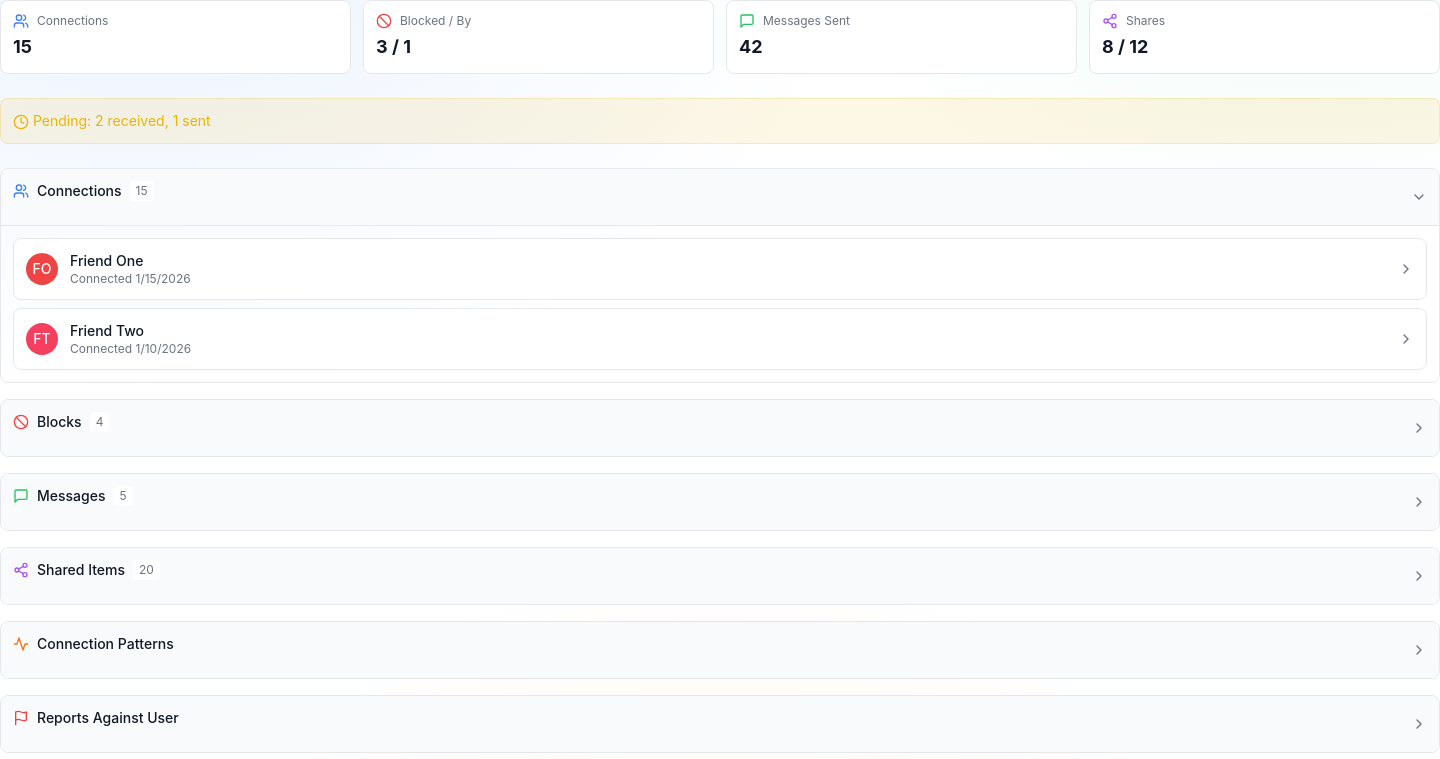
Test: UserSocialTab › clicking shares stat card expands shares section
Expected: the text "8 / 12" is shown, x1=1102 y1=36 x2=1148 y2=57
// Expand shares section via stat card
Click the button "Shares 8 / 12".
click(1146, 20)  # box x1=1089 y1=0 x2=1439 y2=74
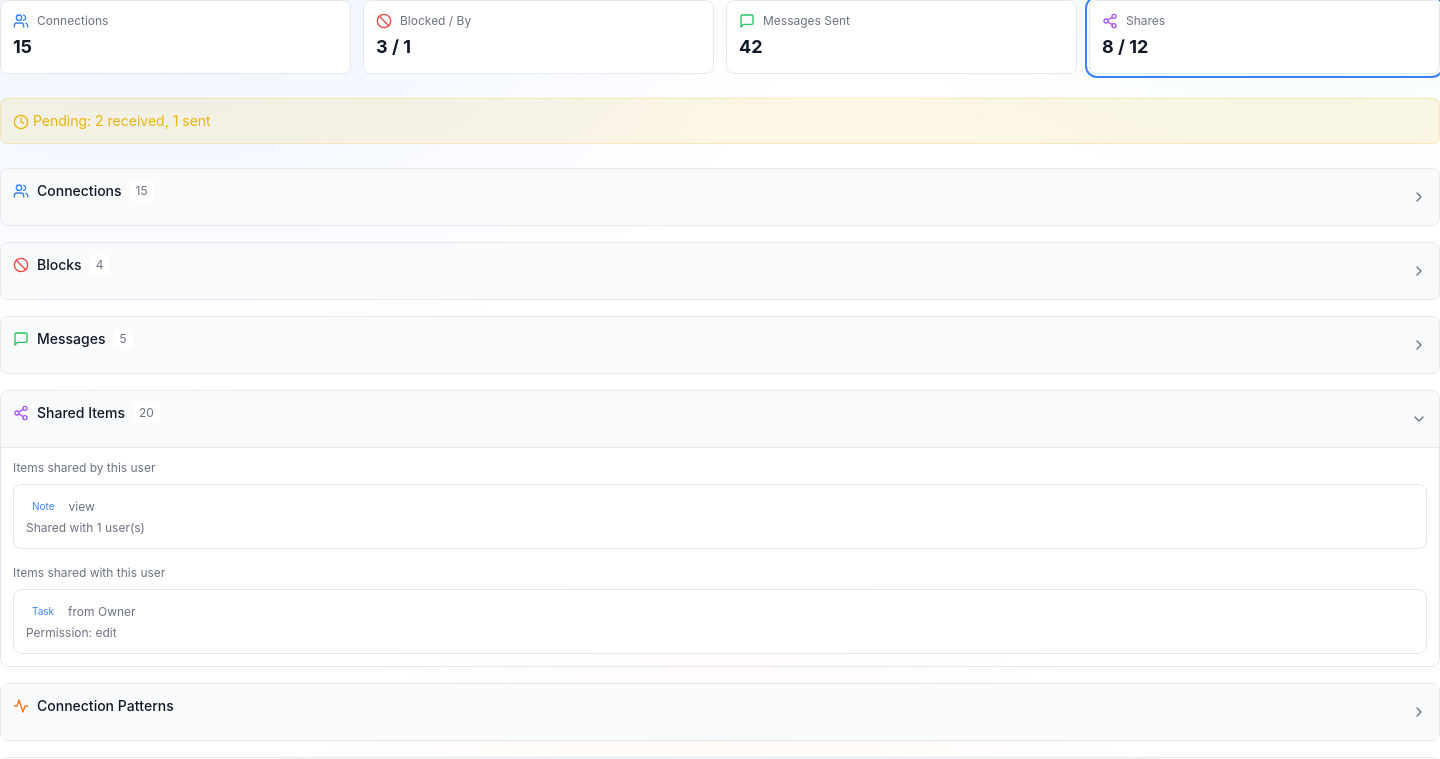
Result: the text "Items shared by this user" is shown at x1=13 y1=460 x2=156 y2=475
Result: the text "note" is shown at x1=32 y1=500 x2=54 y2=512
Result: the text "Items shared with this user" is shown at x1=13 y1=565 x2=165 y2=580
